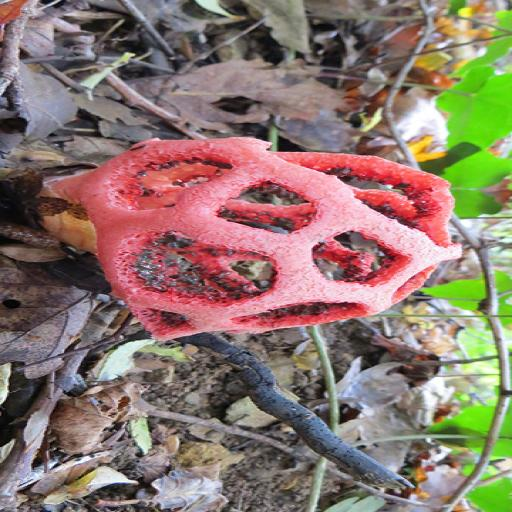Red Cage Fungus: (51, 135, 459, 336)
